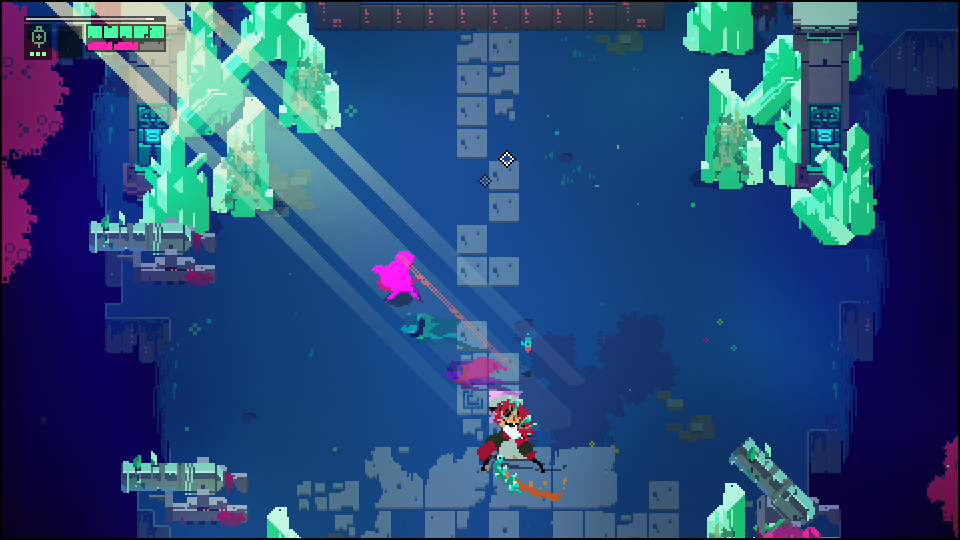hanged_man: (479, 391, 556, 501)
player: (372, 248, 424, 303)
